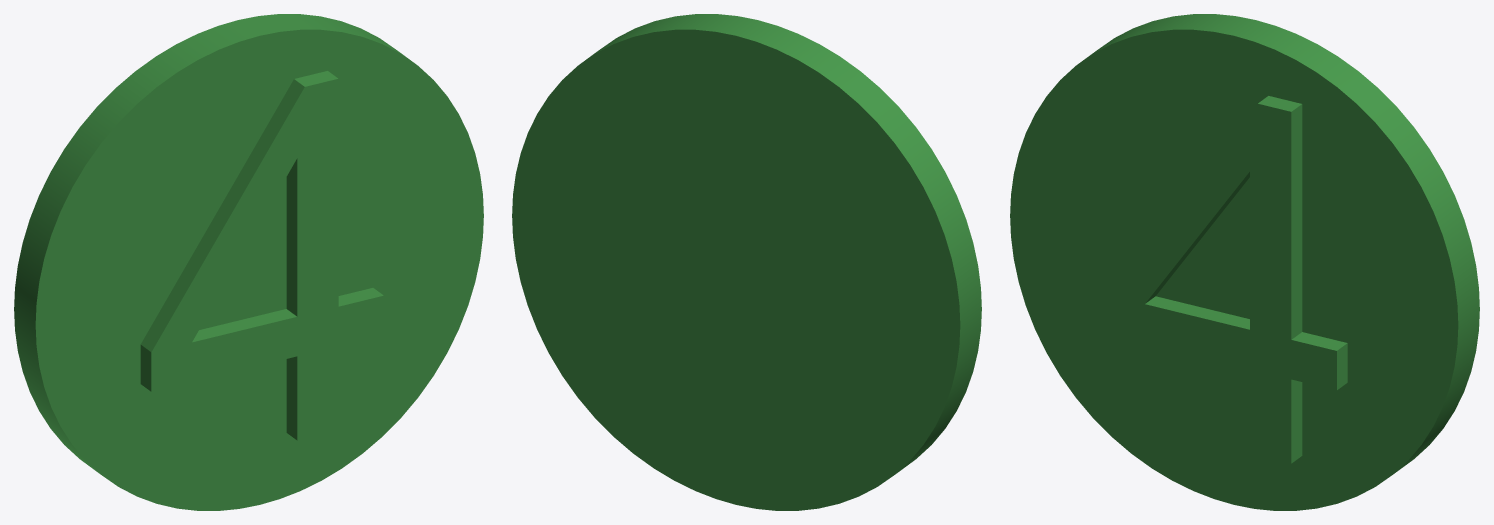
The model's file is disk4.fbx.
3 renders of one model, left to right at view 1: azimuth 30°, elevation 25°; view 2: azimuth 150°, elevation 25°; view 3: azimuth 330°, elevation 25°, orthographic.
Parts seen in each view (by area): view 1: Body1; view 2: Body1; view 3: Body1.
Part boxes in pixels (box(x1,y1,x2,y2)): Body1: box(14, 14, 483, 510); Body1: box(512, 14, 981, 510); Body1: box(1010, 14, 1479, 510).
Bounding box in the file's own units: 1200 × 1200 × 150.
